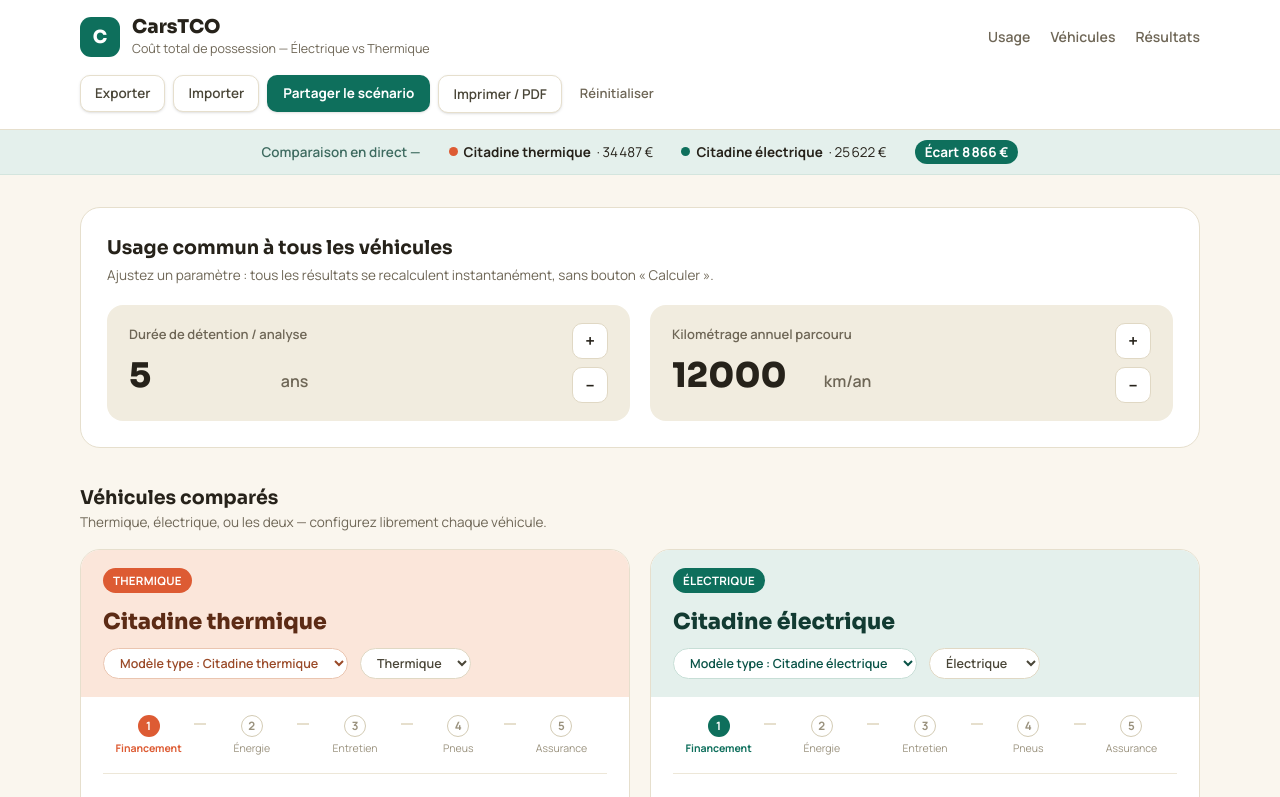
Test: App › updates the vehicle label live as the user types
The image size is (1280, 797).
Replace the text in the 1st field showing "Citadine thermique" with "Ma citadine" at (355, 621), box [103,605,607,638]
(page scrolled)
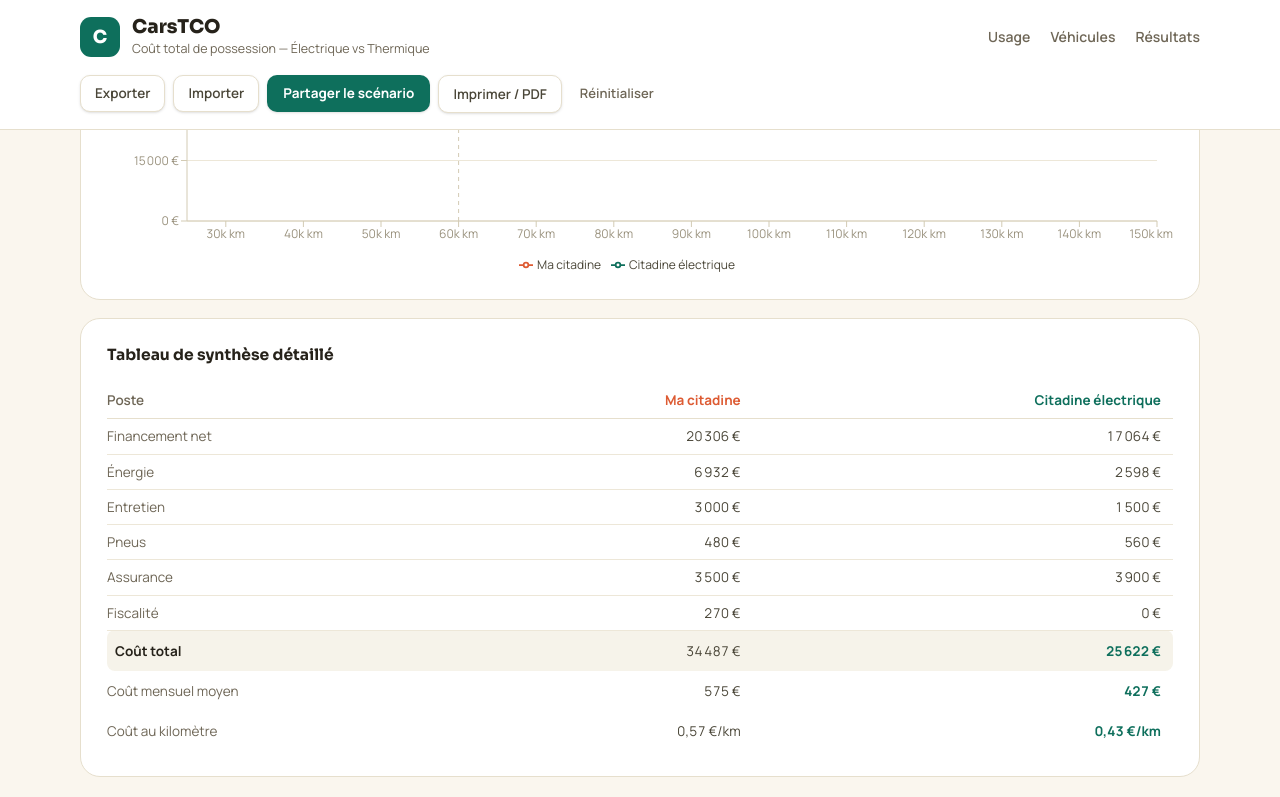
Result: the column heading "Ma citadine" is shown at [474,382,753,419]
